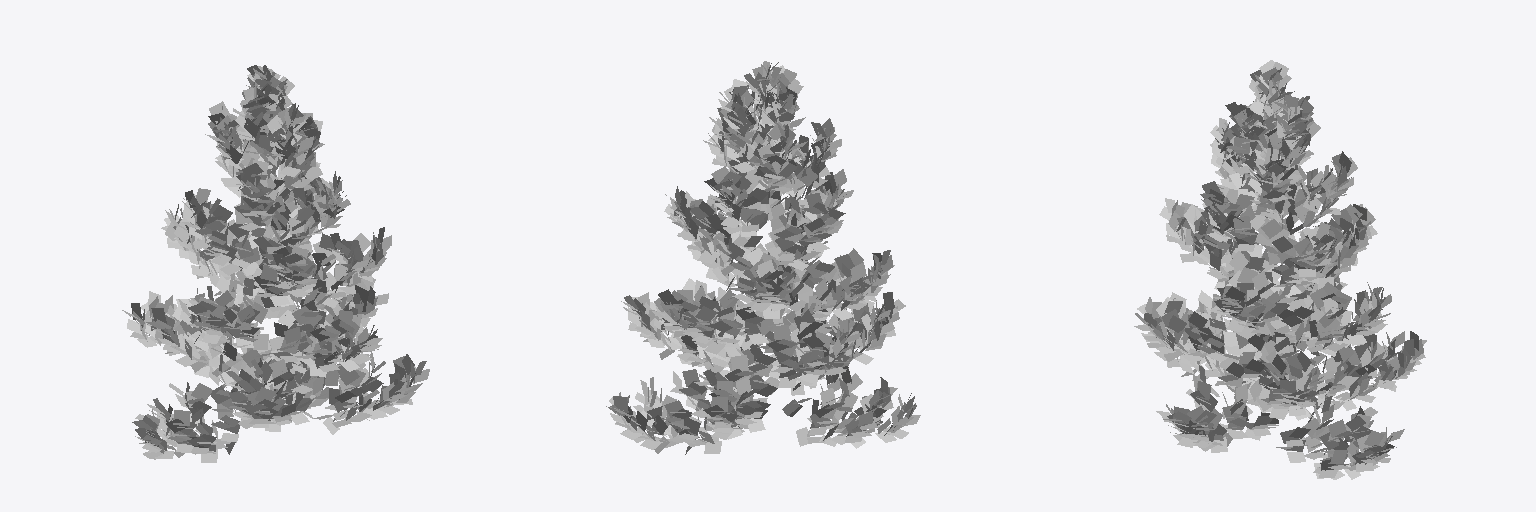
File: leaves.obj
3 renders of one model, left to right at view 1: azimuth 30°, elevation 25°; view 2: azimuth 150°, elevation 25°; view 3: azimuth 270°, elevation 25°, orthographic.
Parts seen in each view (by area): view 1: leaves.001; view 2: leaves.001; view 3: leaves.001.
Part boxes in pixels (bbox=[...]): leaves.001: bbox=[122, 65, 429, 462]; leaves.001: bbox=[606, 61, 920, 454]; leaves.001: bbox=[1134, 60, 1426, 479].
Size of the model in its own units: 28.65 by 39.06 by 26.93.